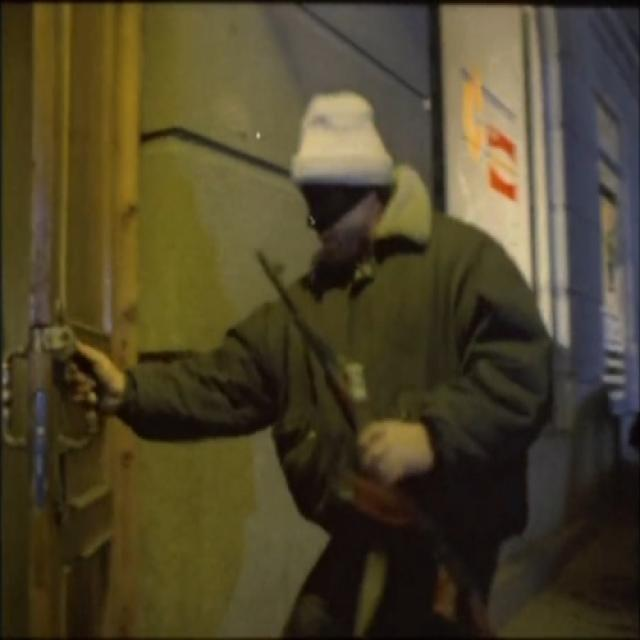rifle: (256, 239, 501, 640)
